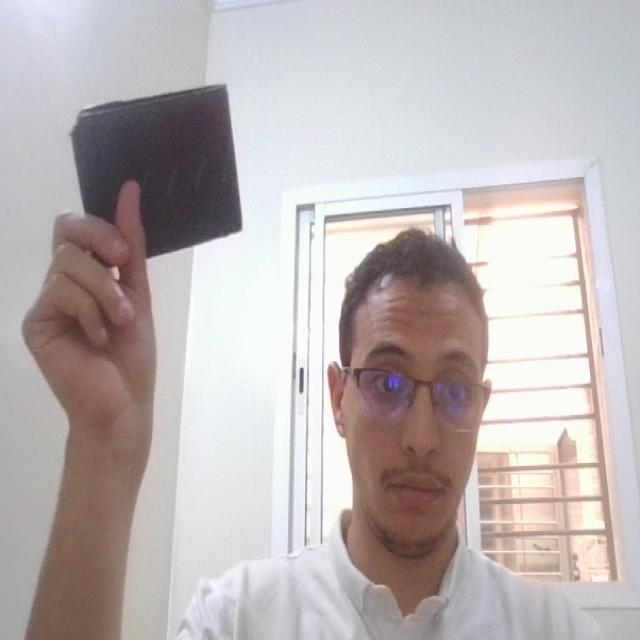wallet: (67, 75, 270, 286)
